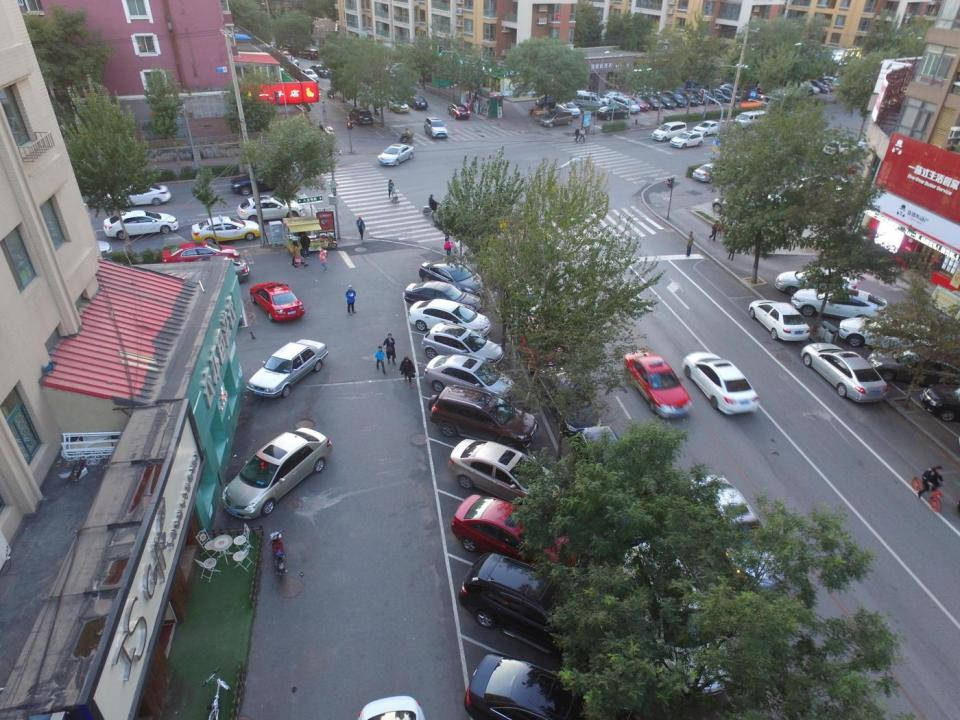car: (456, 550, 642, 668), (619, 542, 736, 698), (464, 650, 646, 720), (451, 494, 600, 578), (687, 477, 790, 598), (568, 426, 659, 542), (221, 427, 333, 521), (448, 438, 571, 510), (428, 384, 540, 450), (800, 342, 890, 404), (680, 349, 760, 418), (246, 337, 330, 400), (622, 347, 693, 421), (534, 365, 608, 435), (422, 353, 518, 403), (837, 316, 944, 356), (420, 322, 506, 369), (868, 346, 958, 389), (407, 298, 491, 340), (790, 288, 889, 322), (511, 314, 566, 369), (748, 299, 812, 341), (247, 279, 308, 323), (404, 279, 481, 313), (38, 235, 110, 270), (419, 260, 485, 297), (174, 255, 252, 286), (103, 209, 180, 240), (776, 268, 858, 296), (190, 215, 262, 245), (160, 242, 241, 268), (712, 195, 775, 227), (96, 182, 172, 206), (235, 195, 303, 220), (229, 168, 291, 194), (502, 272, 537, 318), (377, 143, 416, 167), (693, 163, 731, 183), (822, 138, 859, 158), (539, 108, 574, 128), (855, 136, 889, 155), (670, 130, 703, 149), (608, 96, 640, 115), (424, 115, 449, 139), (348, 105, 374, 127), (631, 82, 666, 98), (534, 94, 572, 108), (697, 88, 724, 106), (596, 106, 630, 120), (556, 100, 582, 118), (660, 90, 689, 106), (694, 119, 721, 136), (386, 94, 410, 112), (674, 89, 699, 106), (386, 62, 414, 77), (793, 79, 821, 94), (803, 76, 829, 92), (718, 85, 743, 101), (629, 95, 650, 113), (405, 95, 429, 110), (687, 86, 708, 103), (448, 103, 470, 119), (642, 94, 664, 110), (712, 87, 734, 103), (816, 75, 843, 88), (652, 93, 676, 107), (791, 81, 813, 95), (814, 77, 836, 91), (423, 202, 446, 215), (602, 91, 629, 102), (300, 70, 319, 84), (311, 64, 331, 76), (444, 230, 453, 256), (280, 43, 299, 55), (271, 47, 291, 58), (262, 40, 280, 51), (300, 49, 319, 59), (283, 55, 299, 66)
van: (651, 121, 688, 141), (736, 109, 770, 130), (578, 90, 609, 107), (573, 93, 602, 111)
